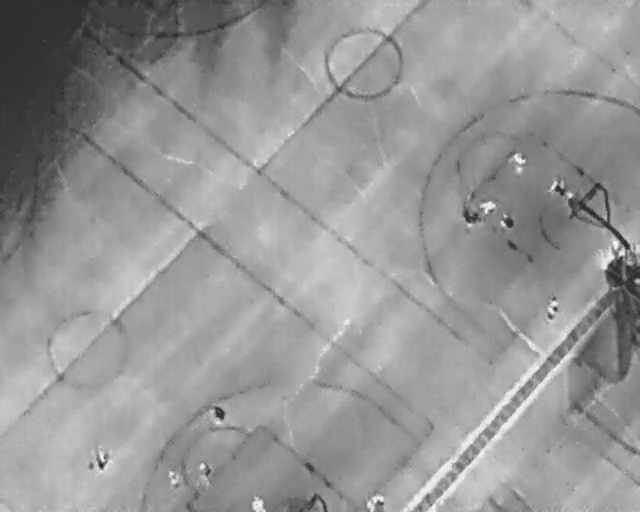Person: (162, 466, 182, 493), (91, 446, 110, 471), (464, 207, 481, 232), (205, 405, 226, 425), (511, 150, 527, 175), (198, 458, 211, 487), (546, 295, 558, 326), (552, 173, 566, 196), (366, 494, 383, 512), (251, 493, 266, 512), (481, 197, 496, 215), (567, 190, 577, 215), (501, 214, 515, 231)
